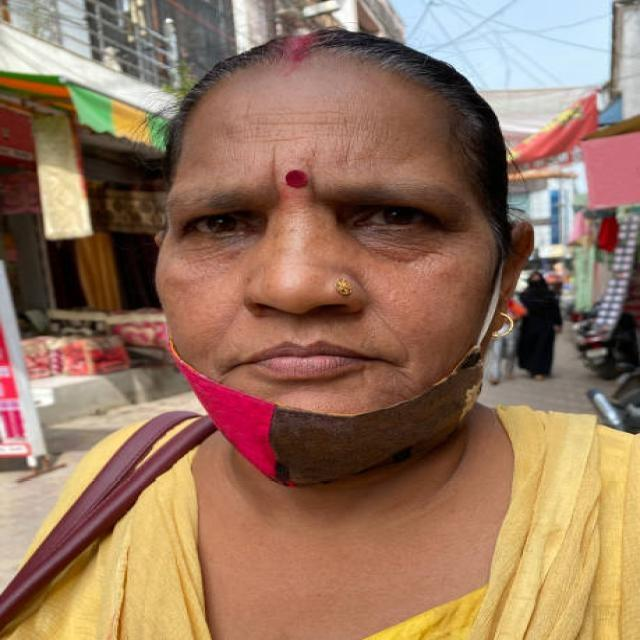hairnet: (176, 251, 501, 474)
